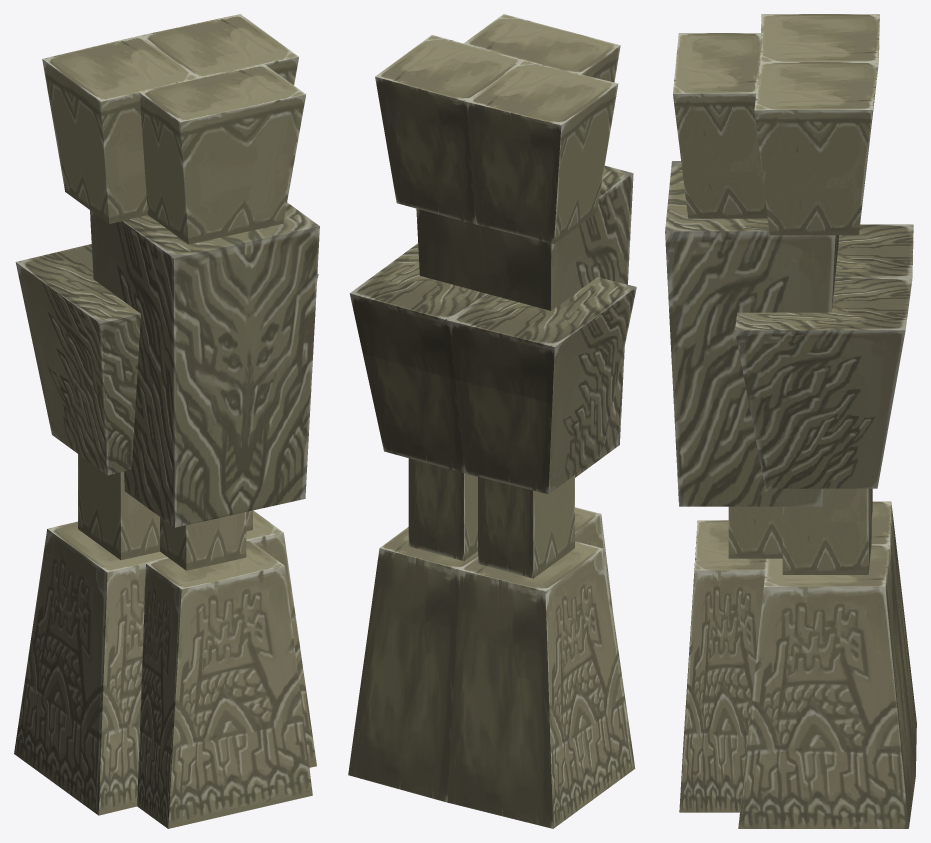
File: pillar2.fbx
3 renders of one model, left to right at view 1: azimuth 30°, elevation 25°; view 2: azimuth 150°, elevation 25°; view 3: azimuth 270°, elevation 25°, orthographic. The views are drawn at different scales.
Parts seen in each view (by area): view 1: polySurface105; view 2: polySurface105; view 3: polySurface105.
Part boxes in pixels (<box>): polySurface105: <box>14,14,319,828</box>; polySurface105: <box>348,14,636,828</box>; polySurface105: <box>665,14,916,828</box>.
Bounding box in the file's own units: 0.6362 × 2 × 0.6392.
